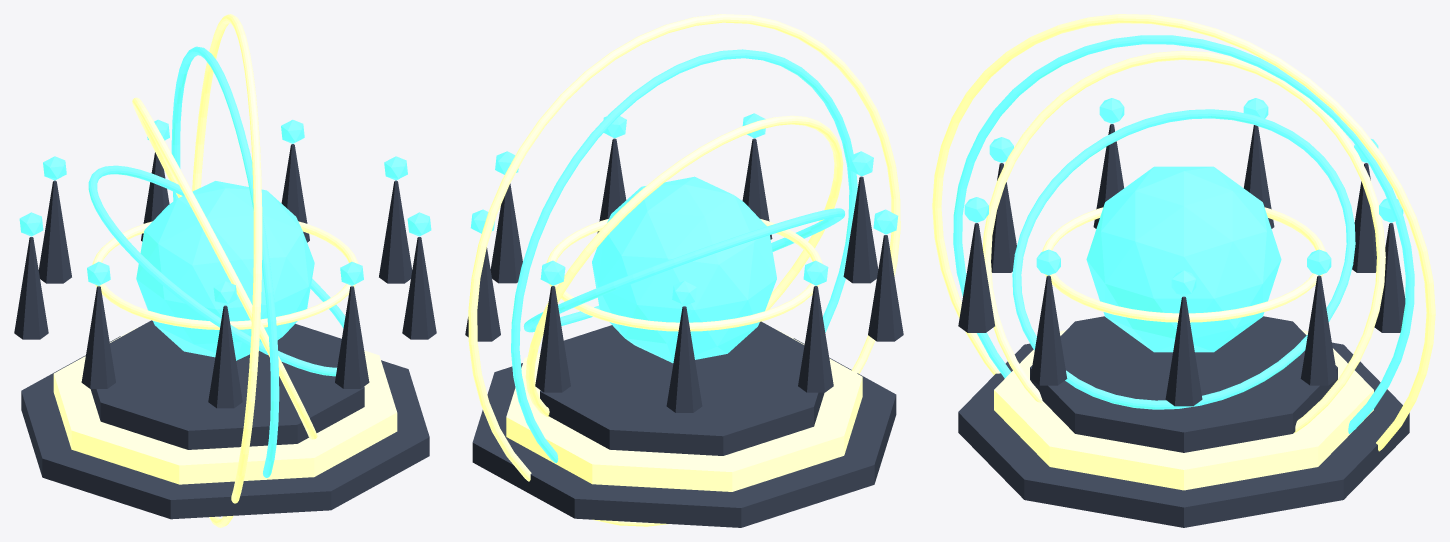
Rendered from gpu-blender-v13.glb.
The picture shows the model from 3 angles, left to right: view 1: azimuth 30°, elevation 25°; view 2: azimuth 150°, elevation 25°; view 3: azimuth 270°, elevation 25°; orthographic projection. The views are drawn at different scales.
Parts seen in each view (by area): view 1: Cylinder.002, Cylinder, SovereignCore_payload-entropy-studio, Cylinder.001, Torus.004, Torus.003, Torus.001, Torus.002, Torus, Cone.006, Cone.004, Cone.008 (+6 smaller); view 2: Cylinder.002, SovereignCore_payload-entropy-studio, Cylinder, Cylinder.001, Torus.004, Torus.003, Torus.002, Torus.001, Torus, Cone.005, Cone.002, Cone.004 (+6 smaller); view 3: SovereignCore_payload-entropy-studio, Cylinder.002, Cylinder, Cylinder.001, Torus.004, Torus.003, Torus.002, Torus.001, Torus, Cone, Cone.001, Cone.008 (+6 smaller).
Part boxes in pixels (left/top/right/bottom): Cylinder.002: left=90, top=320, right=364, bottom=449; Cylinder: left=21, top=336, right=429, bottom=519; SovereignCore_payload-entropy-studio: left=136, top=181, right=314, bottom=360; Cylinder.001: left=53, top=327, right=397, bottom=484; Torus.004: left=192, top=14, right=262, bottom=527; Torus.003: left=171, top=46, right=279, bottom=479; Torus.001: left=88, top=165, right=345, bottom=376; Torus.002: left=132, top=97, right=317, bottom=439; Torus: left=92, top=221, right=358, bottom=329; Cone.006: left=208, top=305, right=242, bottom=408; Cone.004: left=14, top=237, right=48, bottom=339; Cone.008: left=402, top=237, right=436, bottom=339; Cylinder.002: left=540, top=321, right=824, bottom=455; SovereignCore_payload-entropy-studio: left=592, top=176, right=776, bottom=363; Cylinder: left=472, top=338, right=896, bottom=527; Cylinder.001: left=506, top=329, right=862, bottom=491; Torus.004: left=468, top=14, right=900, bottom=526; Torus.003: left=511, top=49, right=857, bottom=462; Torus.002: left=525, top=115, right=843, bottom=416; Torus.001: left=523, top=208, right=844, bottom=332; Torus: left=546, top=219, right=822, bottom=331; Cone.005: left=868, top=235, right=903, bottom=341; Cone.002: left=535, top=286, right=570, bottom=392; Cone.004: left=798, top=286, right=833, bottom=392; SovereignCore_payload-entropy-studio: left=1086, top=166, right=1281, bottom=352; Cylinder.002: left=1030, top=316, right=1337, bottom=452; Cylinder: left=958, top=342, right=1409, bottom=527; Cylinder.001: left=994, top=330, right=1373, bottom=490; Torus.004: left=932, top=14, right=1435, bottom=451; Torus.003: left=953, top=35, right=1414, bottom=433; Torus.002: left=983, top=50, right=1385, bottom=432; Torus.001: left=1012, top=109, right=1355, bottom=409; Torus: left=1042, top=207, right=1325, bottom=322; Cone: left=1165, top=296, right=1202, bottom=406; Cone.001: left=1300, top=275, right=1337, bottom=385; Cone.008: left=1030, top=275, right=1067, bottom=385.
Bounding box in the file's own units: 4.41 × 5.33 × 4.9.
